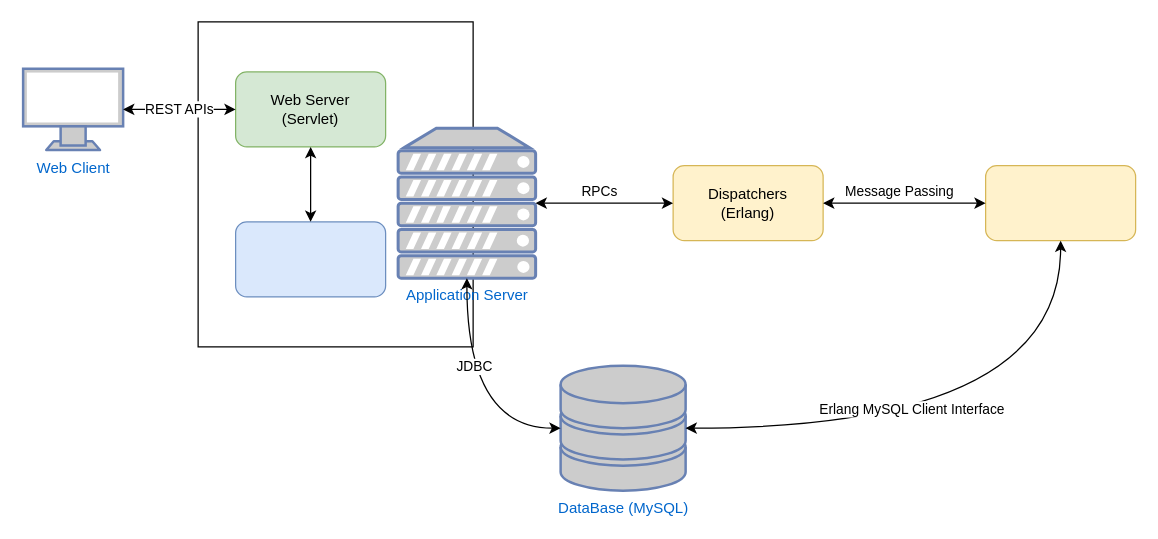
This 1158x539 diagram has some shape labels left out. The centre of each missing label's shape, as x and y in pixels:
Auctions Core (Erlang): the point at 1060,202
EJBs: the point at 310,259
